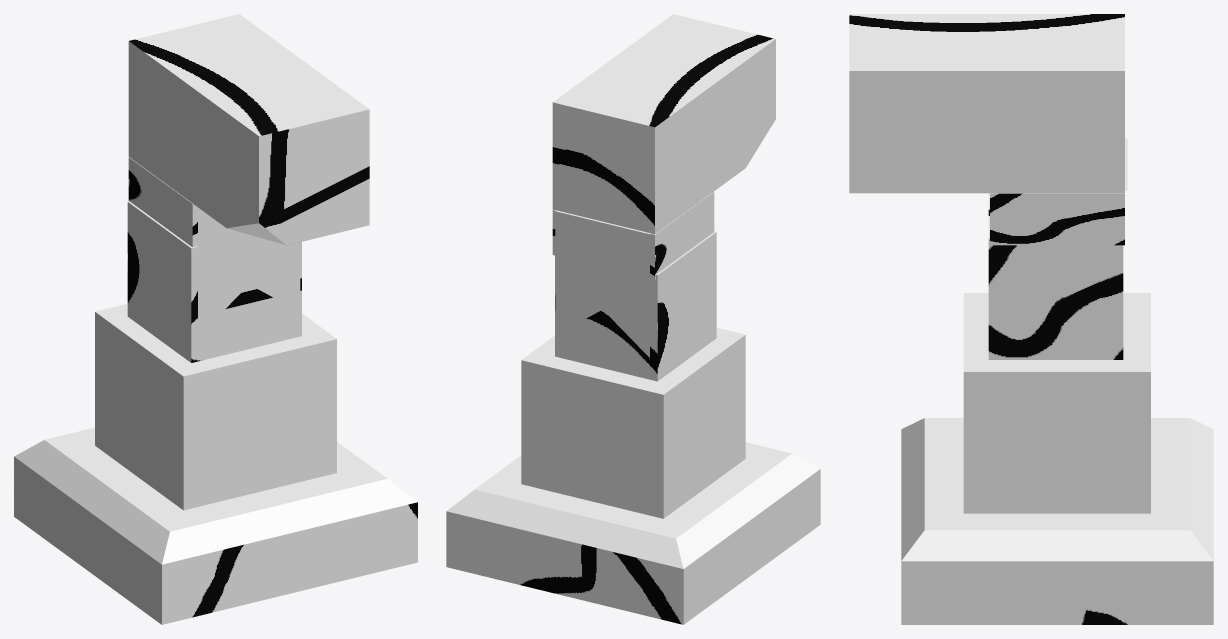
Rendered from Stone Horse.fbx.
3 renders of one model, left to right at view 1: azimuth 30°, elevation 25°; view 2: azimuth 150°, elevation 25°; view 3: azimuth 270°, elevation 25°, orthographic. The views are drawn at different scales.
Visible parts, largest first — view 1: Stone_Horse; view 2: Stone_Horse; view 3: Stone_Horse.
Boxes of the visible parts, x1,y1,x2,y2 form: Stone_Horse: [14, 14, 417, 624]; Stone_Horse: [446, 14, 820, 624]; Stone_Horse: [849, 14, 1213, 624].
Size of the model in its own units: 1 by 1.82 by 1.17.
